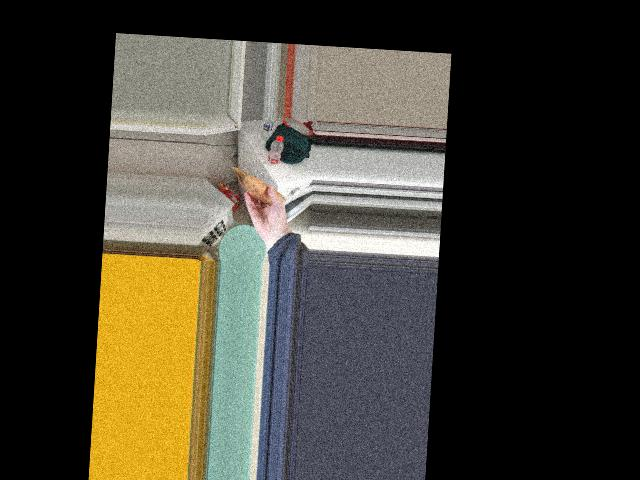sweet_potato: (243, 176, 278, 204)
